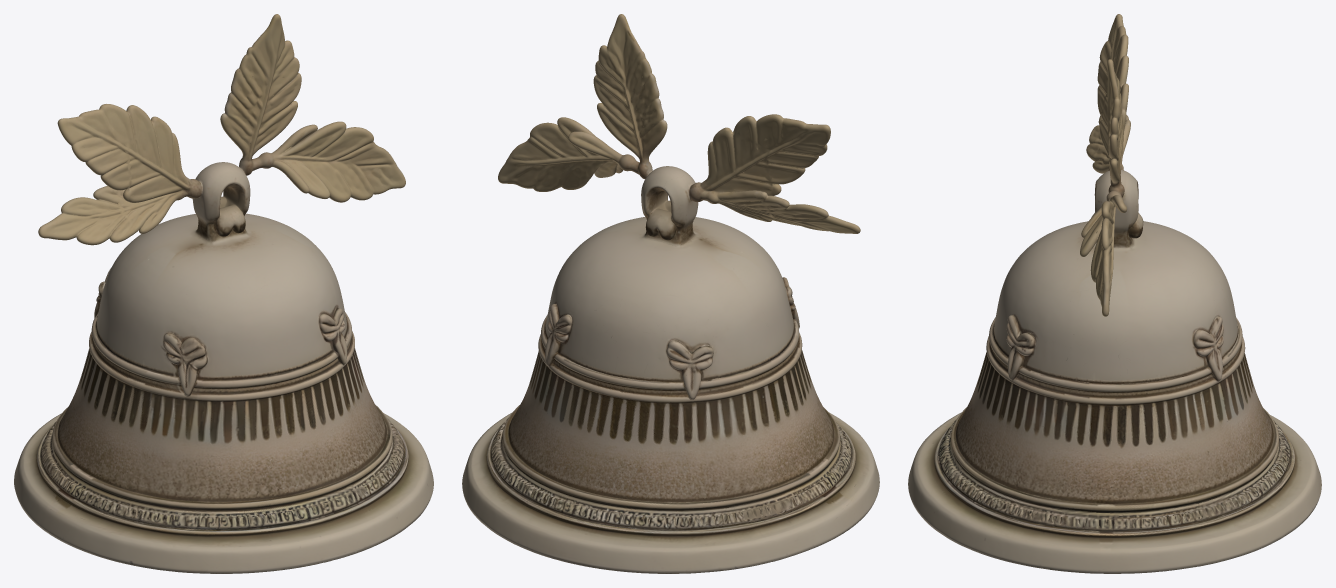
The picture shows the model from 3 angles, left to right: view 1: azimuth 30°, elevation 25°; view 2: azimuth 150°, elevation 25°; view 3: azimuth 270°, elevation 25°; orthographic projection.
Visible parts, largest first — view 1: texture_pbr_v128; view 2: texture_pbr_v128; view 3: texture_pbr_v128.
Part boxes in pixels (bbox=[...]): texture_pbr_v128: bbox=[14, 14, 433, 573]; texture_pbr_v128: bbox=[462, 14, 879, 573]; texture_pbr_v128: bbox=[908, 14, 1321, 573].
Size of the model in its own units: 0.7947 by 0.9962 by 0.7852.
1 material, 1 textured.
